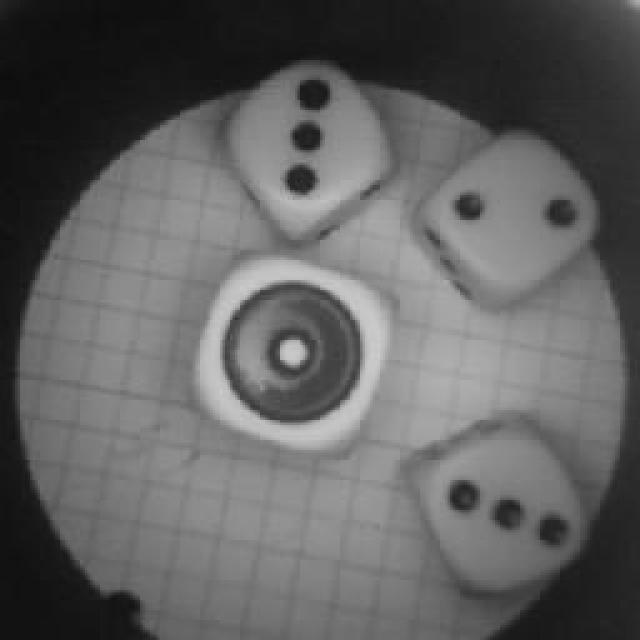dice_1: (190, 247, 385, 465)
dice_2: (422, 122, 602, 308)
dice_3: (213, 50, 395, 242), (412, 415, 598, 600)
